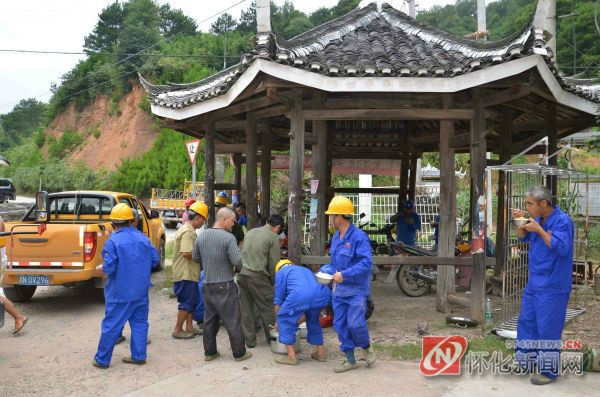blue: (403, 199, 414, 213)
none: (523, 183, 552, 219), (214, 207, 236, 232), (265, 211, 284, 234), (234, 201, 247, 216)
red: (184, 197, 196, 211)
yellow: (324, 194, 356, 230), (109, 203, 135, 232), (188, 203, 208, 228), (273, 256, 294, 274), (213, 196, 227, 212)
